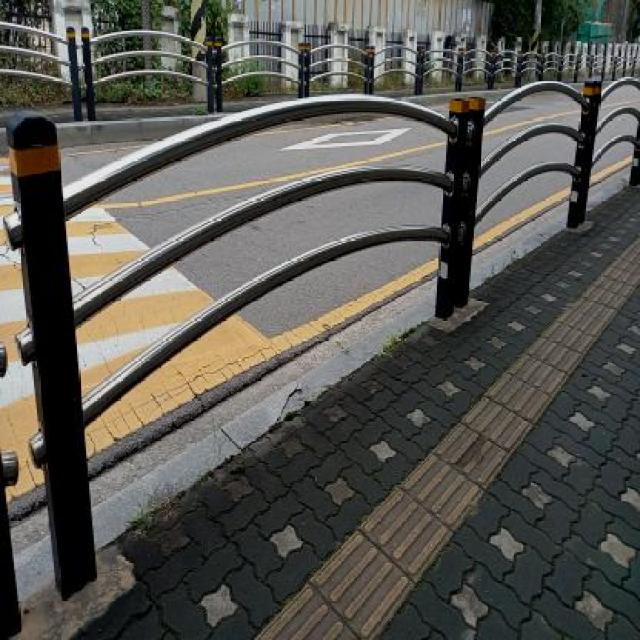fence: (3, 58, 494, 498), (0, 46, 640, 293)
